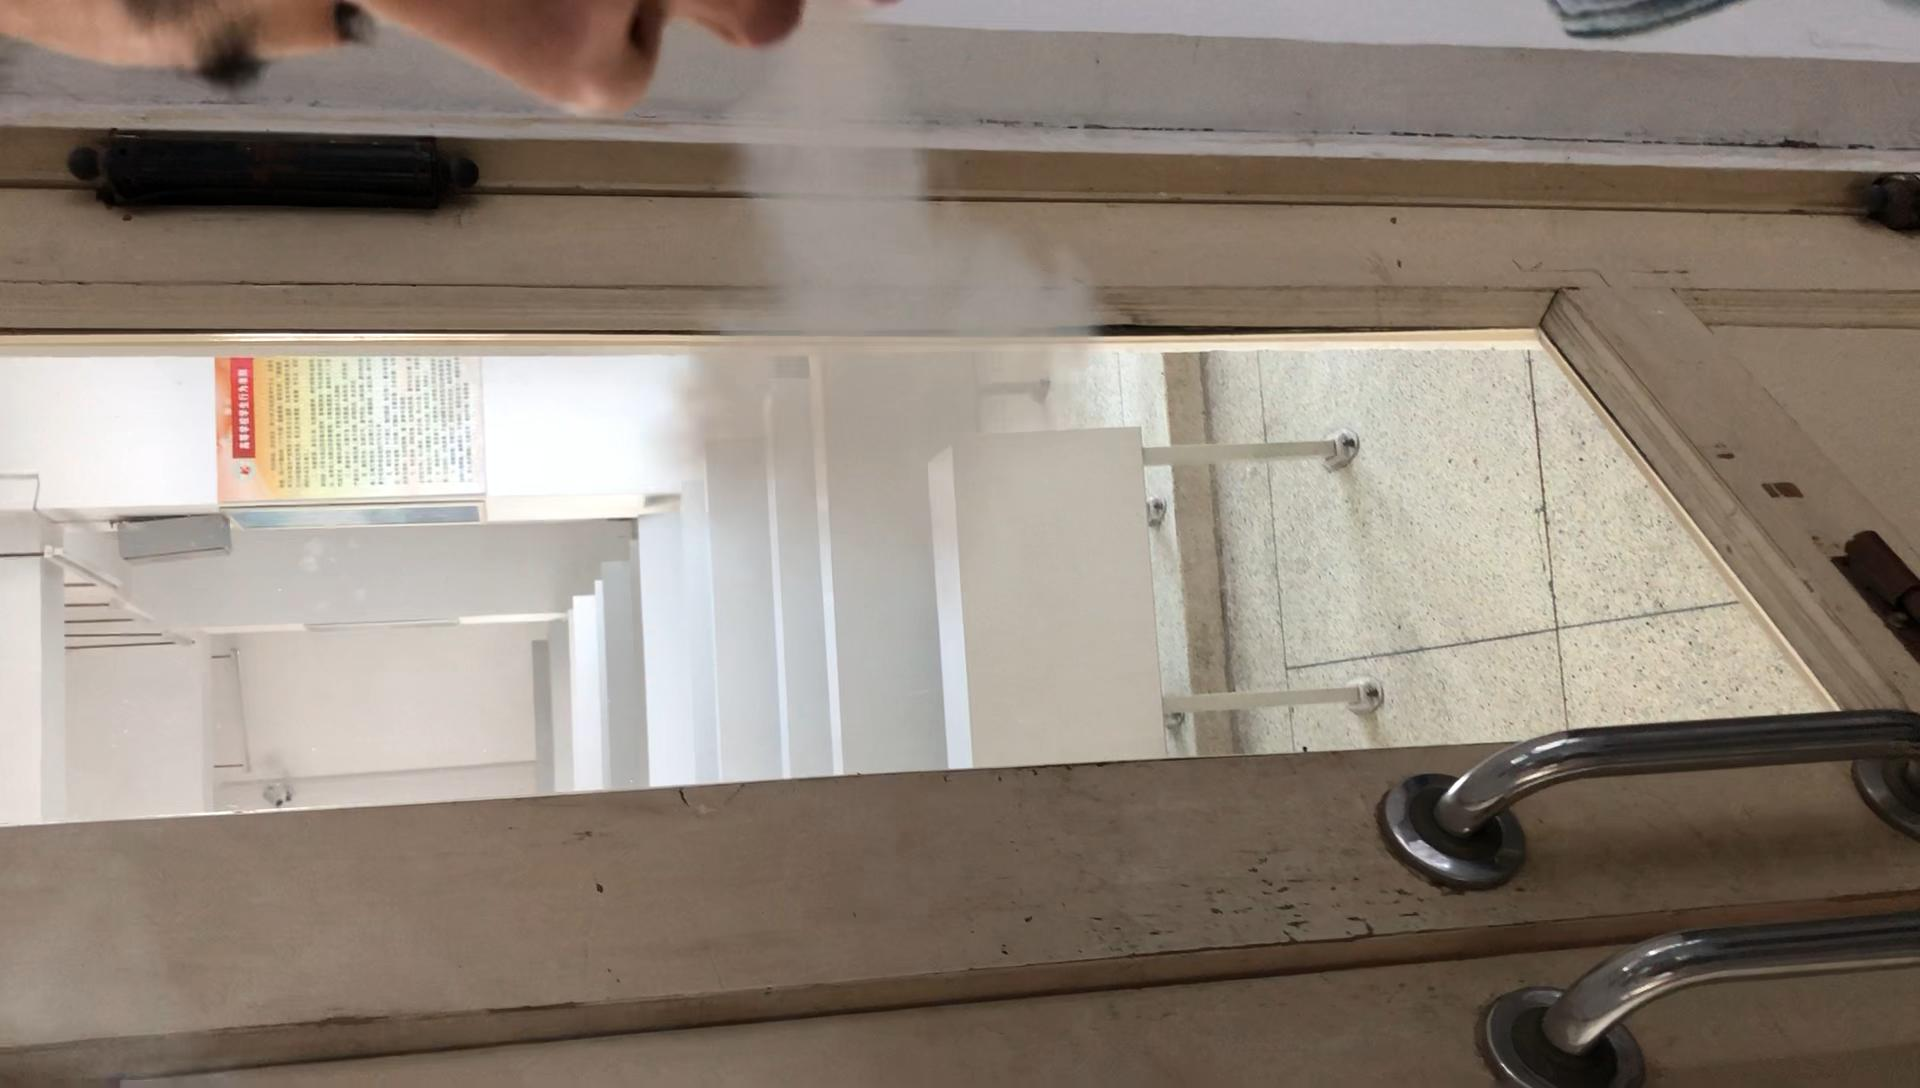smoke: (666, 58, 1145, 493)
